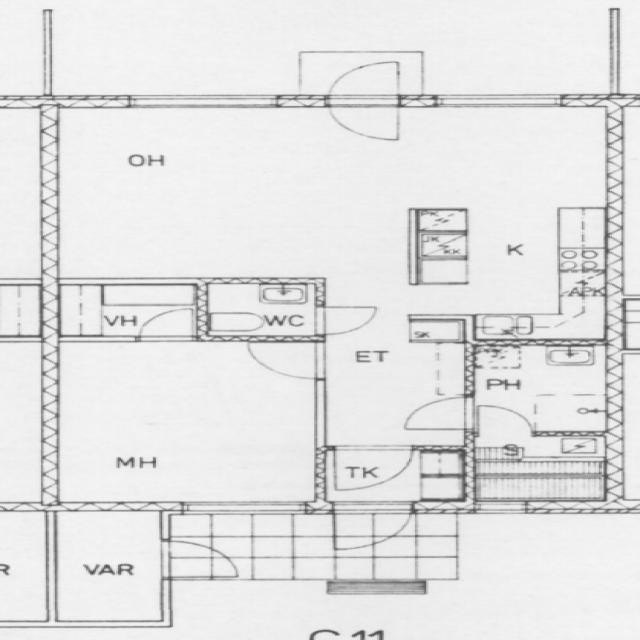door: (35, 105, 444, 285), (40, 338, 323, 512), (322, 57, 408, 144), (322, 445, 417, 502), (158, 534, 245, 586), (336, 500, 419, 549), (242, 339, 328, 381), (396, 393, 477, 433), (308, 302, 382, 338), (469, 403, 537, 439), (134, 306, 199, 343)
window: (127, 91, 284, 113), (429, 90, 578, 113)
zone: (38, 338, 324, 510), (49, 509, 167, 626), (468, 344, 620, 434), (54, 284, 202, 338), (198, 280, 322, 342), (466, 435, 611, 485), (0, 286, 43, 338)
